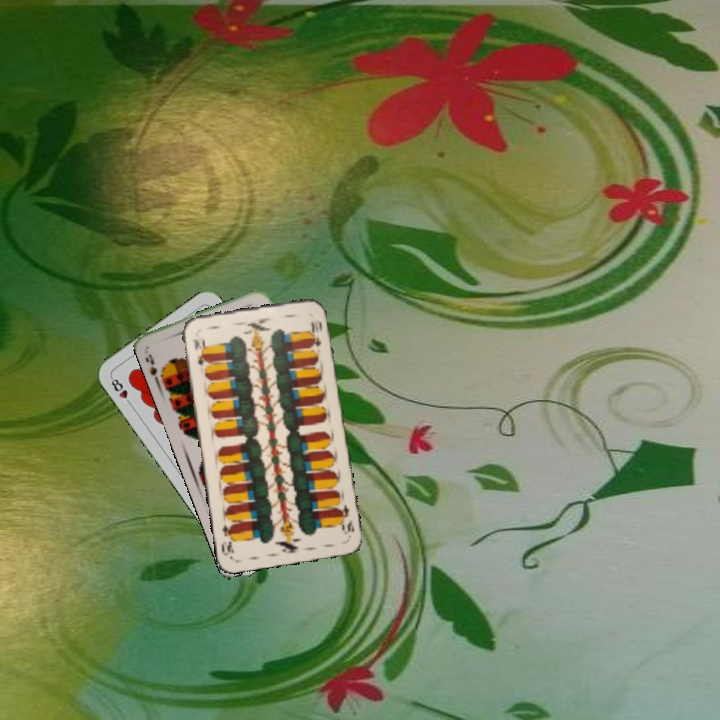E10: (333, 499, 357, 537), (189, 335, 209, 369)
H8: (107, 373, 135, 408)
S9: (141, 350, 169, 387)
